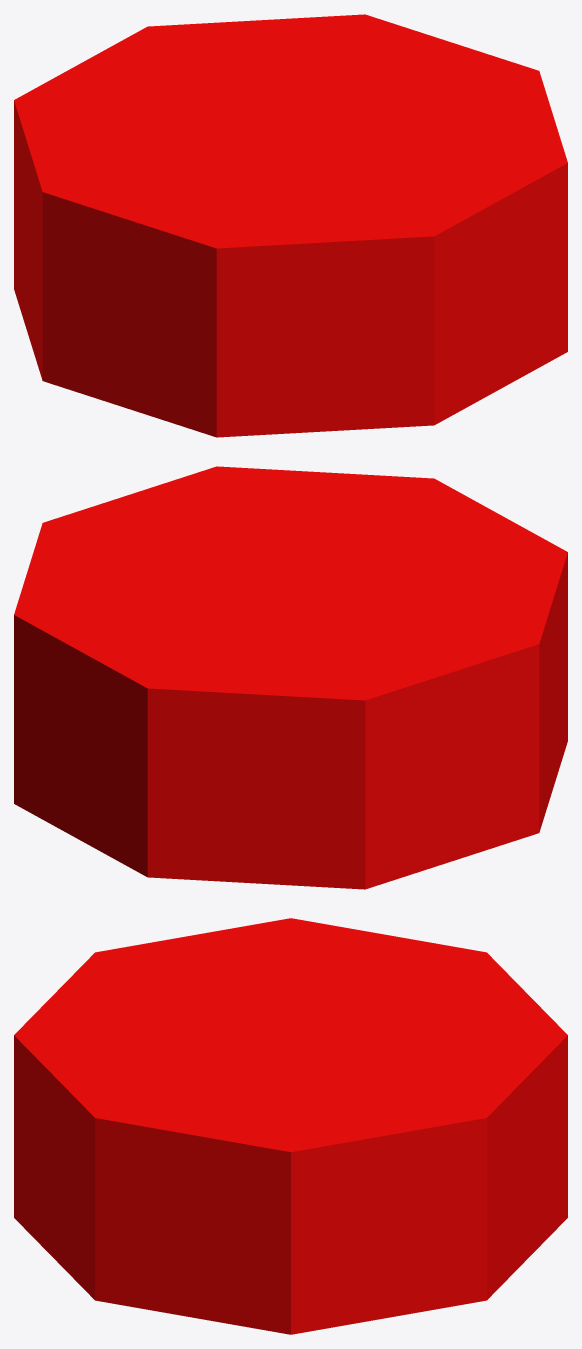
File: launch_button.glb
3 renders of one model, top to bottom at view 1: azimuth 30°, elevation 25°; view 2: azimuth 150°, elevation 25°; view 3: azimuth 270°, elevation 25°, orthographic. The views are drawn at different scales.
Visible parts, largest first — view 1: cylinderVertex; view 2: cylinderVertex; view 3: cylinderVertex.
Boxes of the visible parts, x1=… form: cylinderVertex: x1=14, y1=14, x2=567, y2=437; cylinderVertex: x1=14, y1=466, x2=567, y2=889; cylinderVertex: x1=14, y1=918, x2=567, y2=1334.
Size of the model in its own units: 5.5 by 2 by 5.5.
